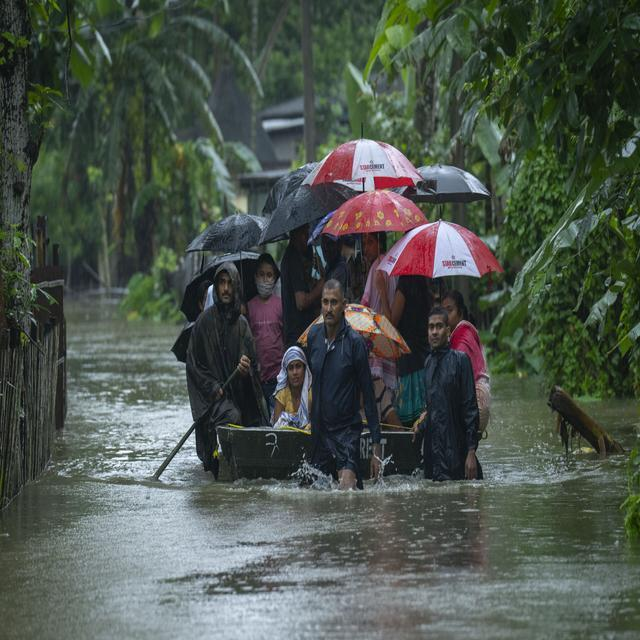Person-RiskLevel3: (174, 160, 512, 427), (296, 274, 387, 503), (404, 307, 490, 480)
